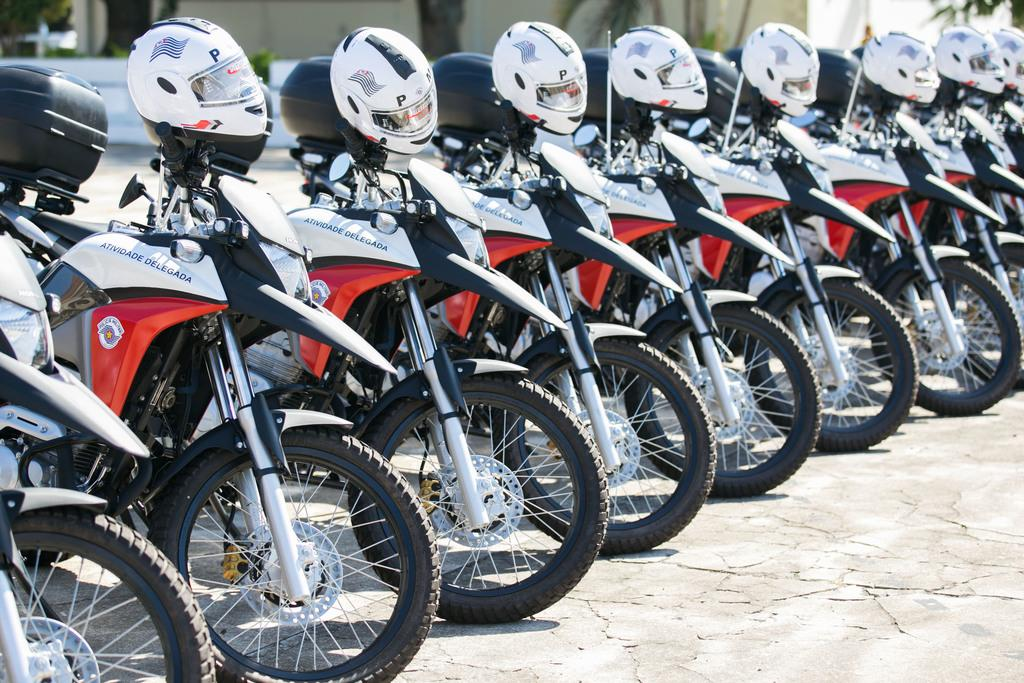helmet: (126, 17, 268, 143), (329, 26, 439, 155), (491, 21, 588, 136), (609, 25, 708, 114), (741, 22, 821, 118), (861, 30, 938, 105), (935, 23, 1007, 96), (978, 26, 1024, 97)
